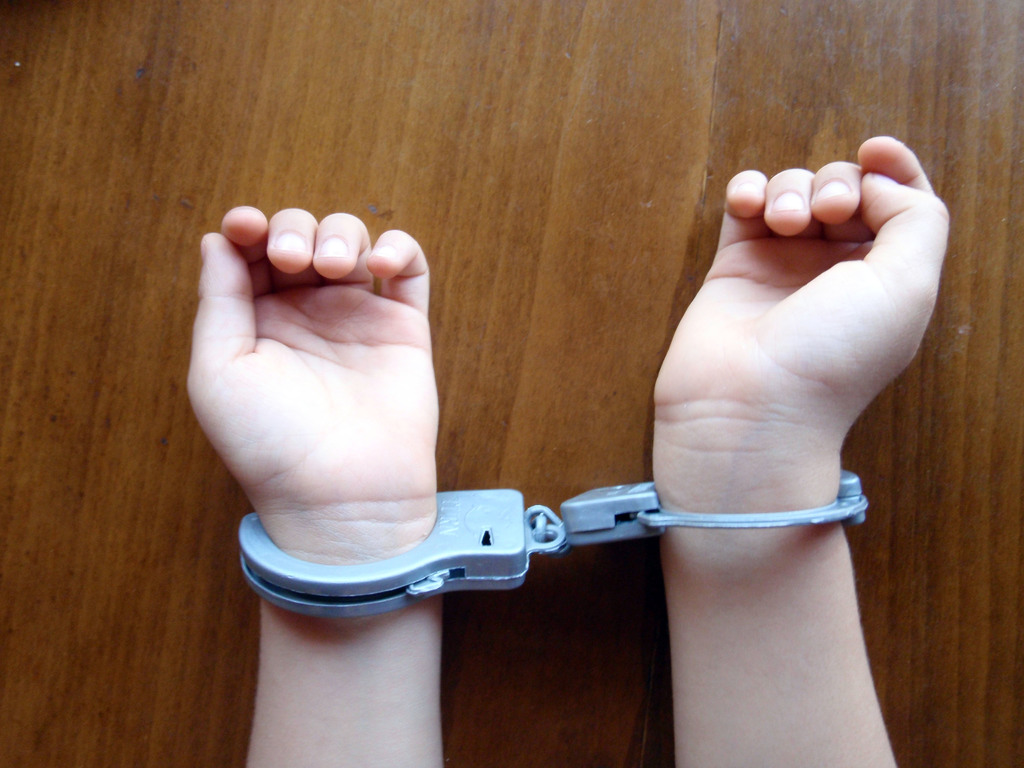Person: (186, 135, 948, 767)
